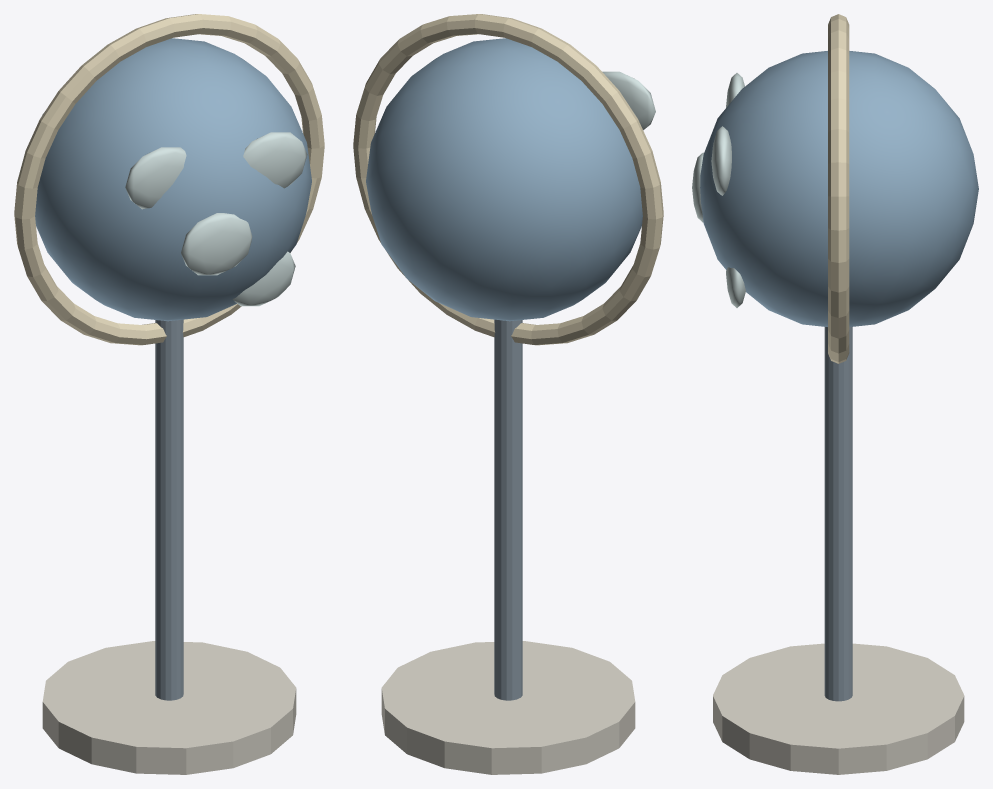
File: school_globe.glb
3 views of the same model, side by side, from view 1: azimuth 30°, elevation 25°; view 2: azimuth 150°, elevation 25°; view 3: azimuth 270°, elevation 25° (orthographic).
Parts seen in each view (by area): view 1: decor_476a8a_matte, decor_aaa493_matte, decor_b7a578_metal, decor_455665_metal, decor_9bb7b5_matte; view 2: decor_476a8a_matte, decor_aaa493_matte, decor_b7a578_metal, decor_455665_metal, decor_9bb7b5_matte; view 3: decor_476a8a_matte, decor_aaa493_matte, decor_455665_metal, decor_b7a578_metal, decor_9bb7b5_matte.
Boxes of the visible parts, left/top/right/bottom form: decor_476a8a_matte: left=35, top=38, right=311, bottom=321; decor_aaa493_matte: left=42, top=641, right=296, bottom=774; decor_b7a578_metal: left=14, top=14, right=324, bottom=345; decor_455665_metal: left=155, top=319, right=183, bottom=700; decor_9bb7b5_matte: left=125, top=132, right=307, bottom=306; decor_476a8a_matte: left=366, top=38, right=642, bottom=321; decor_aaa493_matte: left=381, top=641, right=635, bottom=774; decor_b7a578_metal: left=353, top=14, right=663, bottom=345; decor_455665_metal: left=494, top=319, right=522, bottom=700; decor_9bb7b5_matte: left=602, top=71, right=655, bottom=130; decor_476a8a_matte: left=700, top=51, right=978, bottom=326; decor_aaa493_matte: left=713, top=643, right=964, bottom=774; decor_455665_metal: left=824, top=327, right=852, bottom=701; decor_b7a578_metal: left=828, top=14, right=849, bottom=363; decor_9bb7b5_matte: left=692, top=73, right=745, bottom=307.
Bounding box in the file's own units: 0.724 × 1.58 × 0.593.
